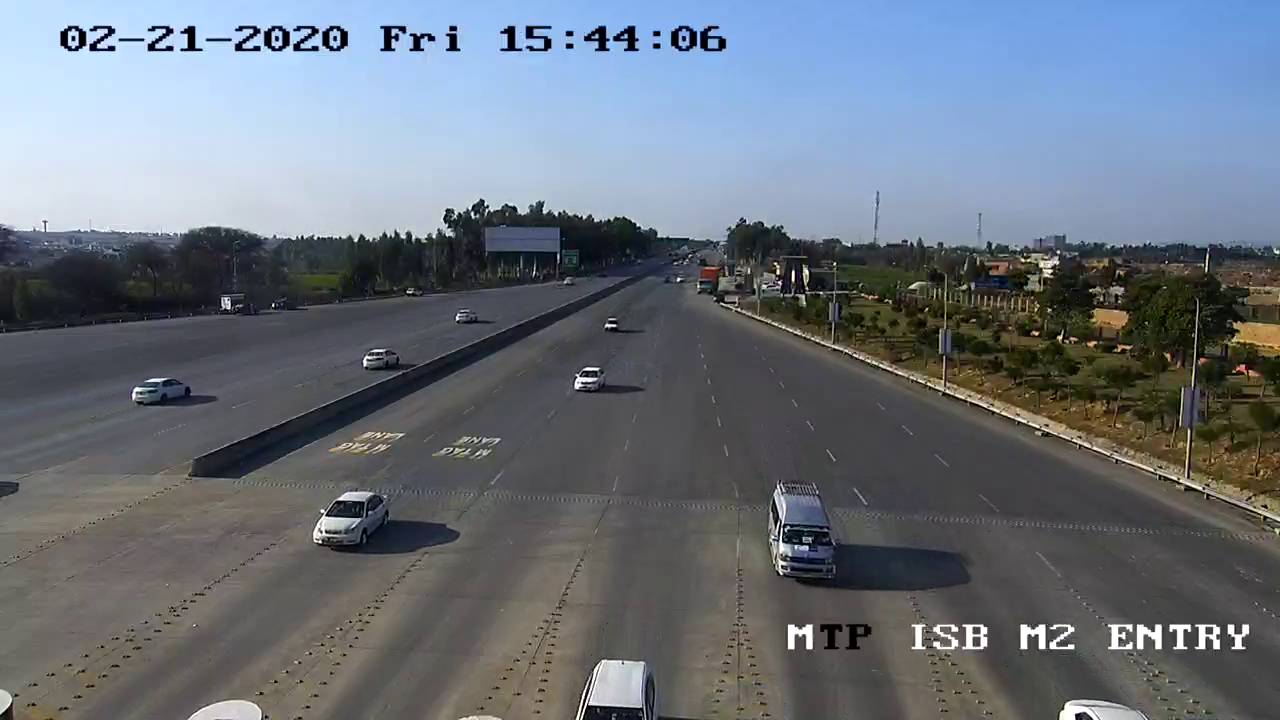f1: (303, 484, 402, 561), (565, 361, 614, 398)
f2: (760, 480, 845, 592)
